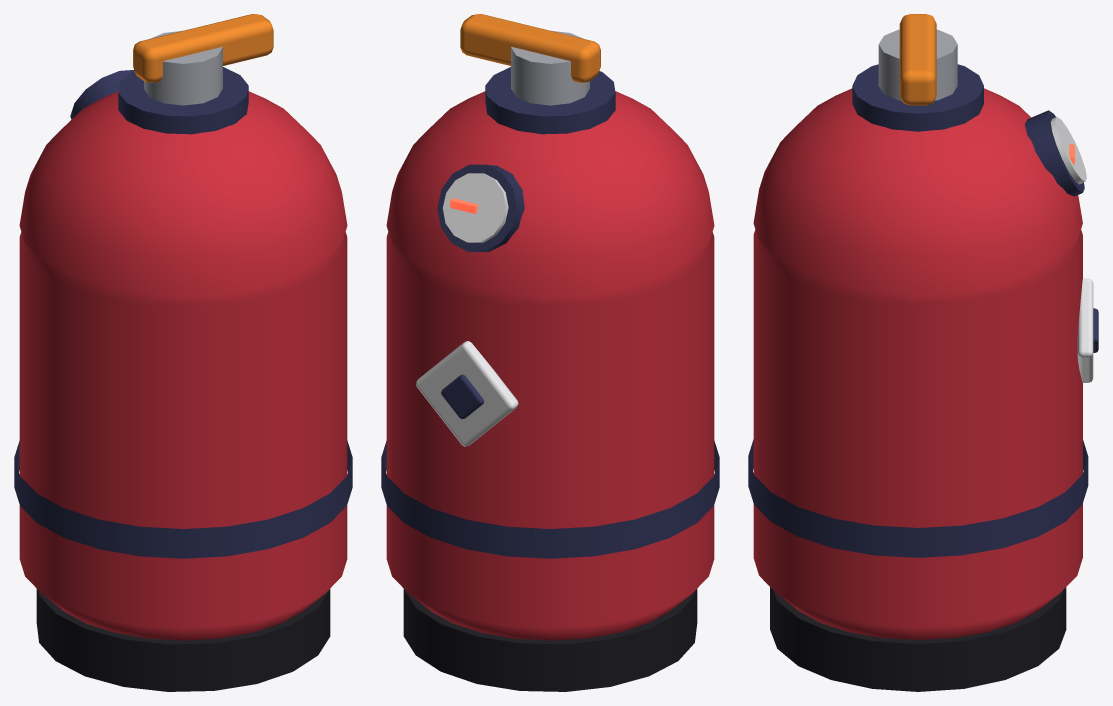
Rendered from prop.props_workrooms.canister_red.glb.
The picture shows the model from 3 angles, left to right: view 1: azimuth 30°, elevation 25°; view 2: azimuth 150°, elevation 25°; view 3: azimuth 270°, elevation 25°; orthographic projection.
Parts seen in each view (by area): view 1: prop.props_workrooms.canister_red; view 2: prop.props_workrooms.canister_red; view 3: prop.props_workrooms.canister_red.
Boxes of the visible parts, box(x1,y1,x2,y2) form: prop.props_workrooms.canister_red: box(14, 14, 352, 691); prop.props_workrooms.canister_red: box(381, 14, 719, 691); prop.props_workrooms.canister_red: box(748, 14, 1098, 691).
Bounding box in the file's own units: 0.258 × 0.5 × 0.266.
